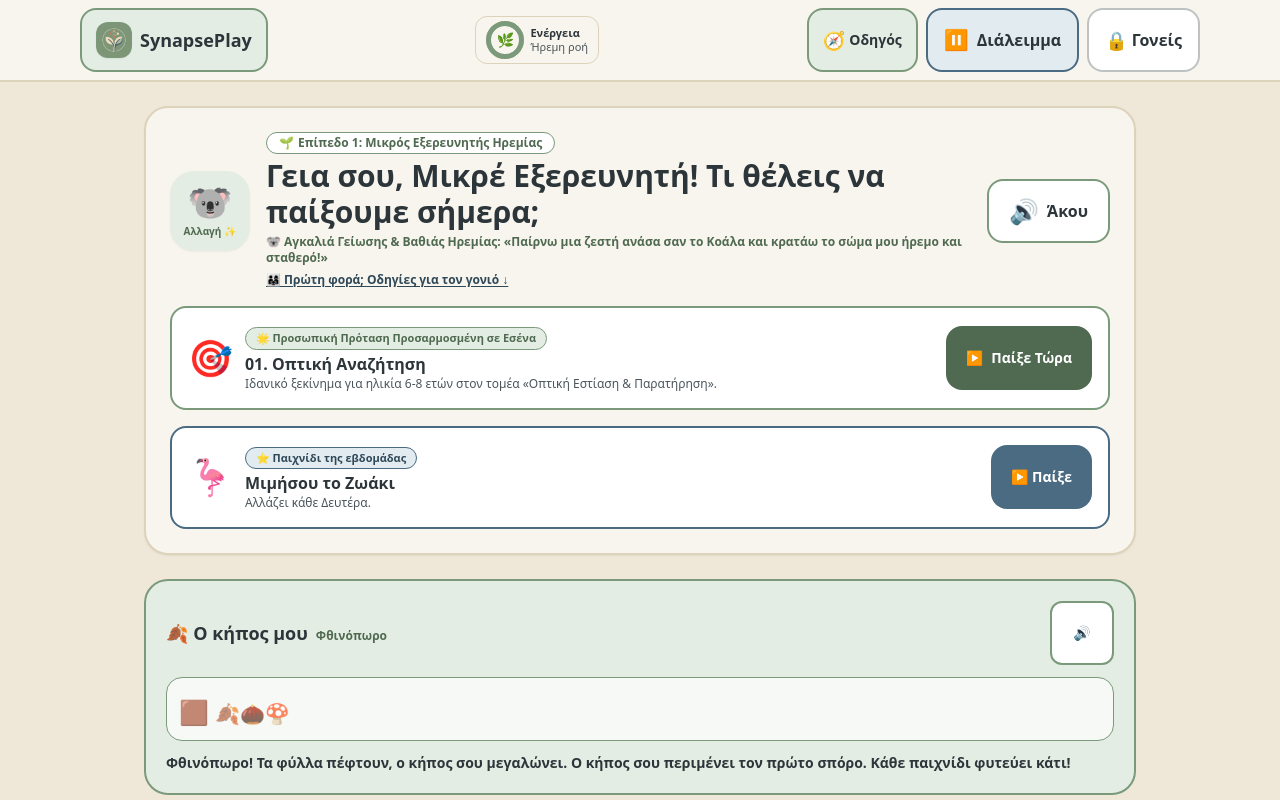
Scenario: SynapsePlay (FocusEngine 5+) — Full Gate 1 to Gate 5 Verification Suite › GATE 1 & 5: Design Tokens, WCAG 2.2 AA Contrast & Child Hub Structure › supports Break / Pause button and Escape key navigation without losing state
This screenshot has width=1280, height=800.
Step 1. Click the button with test id "break-pause-btn" → [1002, 40], box [926,8,1079,72]
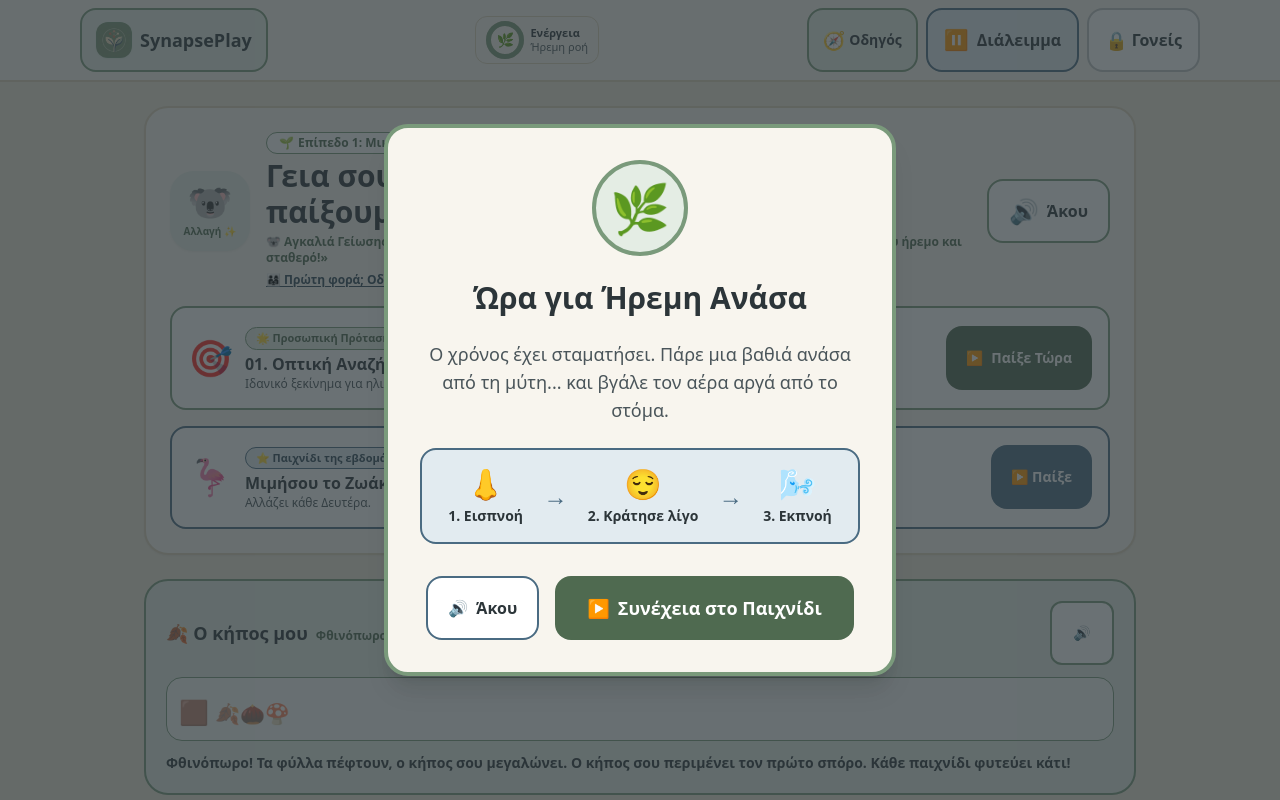
Expected: the dialog with test id "break-pause-modal" is shown
Step 2. Click the button with test id "resume-from-break-btn" → [705, 608], box [555,576,854,640]
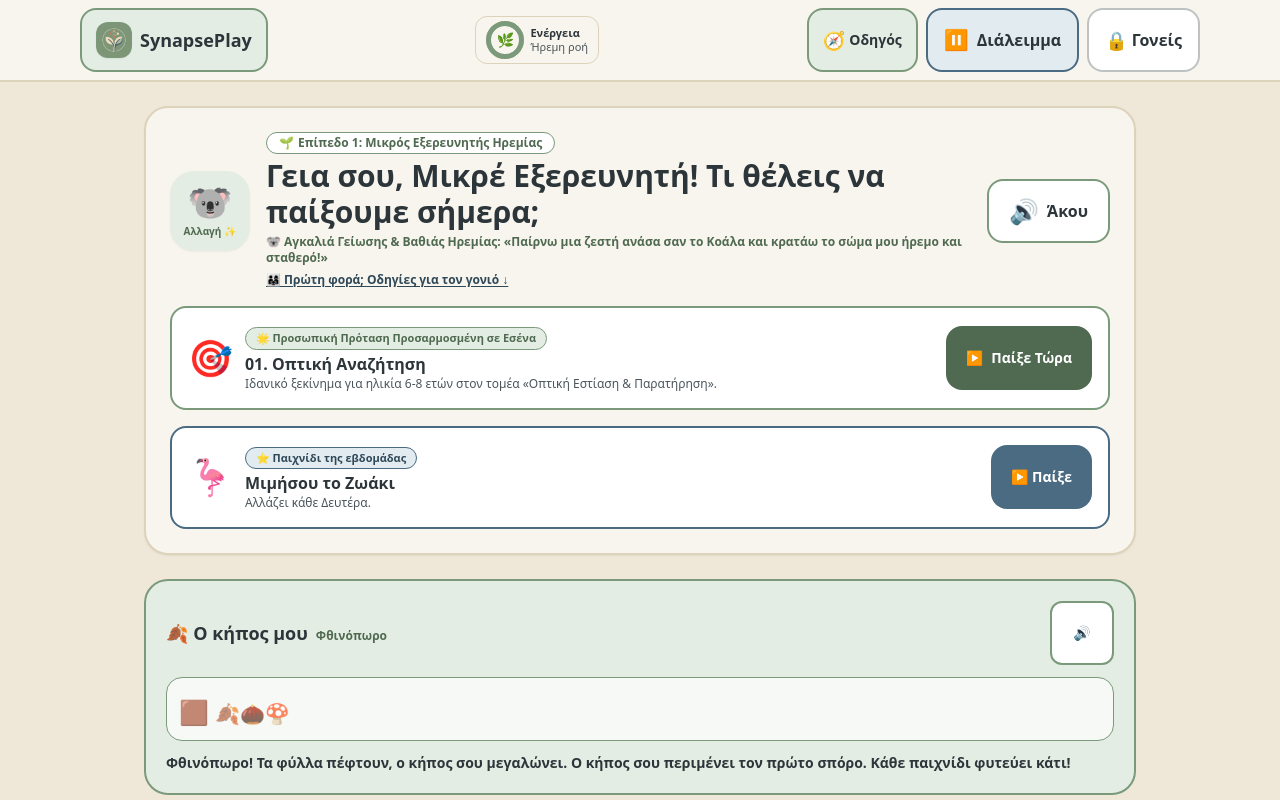
Expected: the dialog with test id "break-pause-modal" is gone
// Also works via Escape key
Step 3. Press Escape
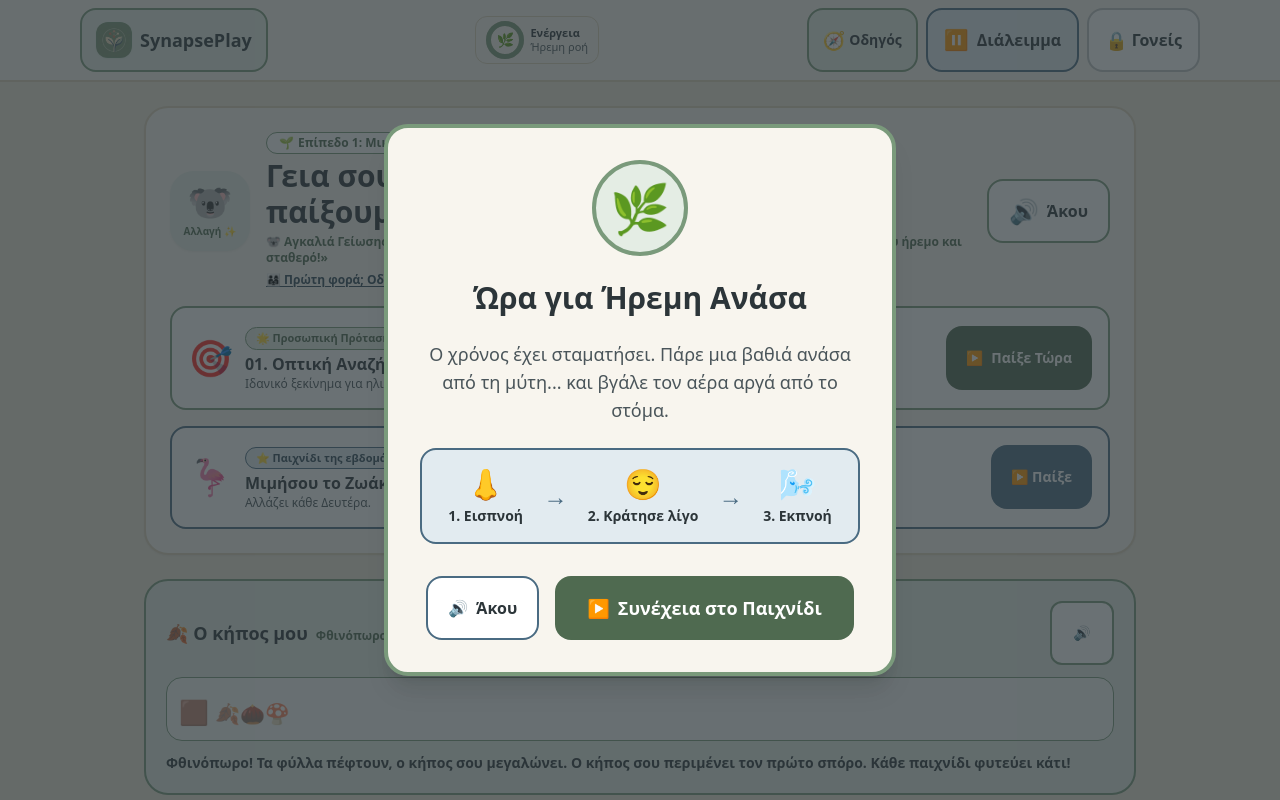
Expected: the dialog with test id "break-pause-modal" is shown
